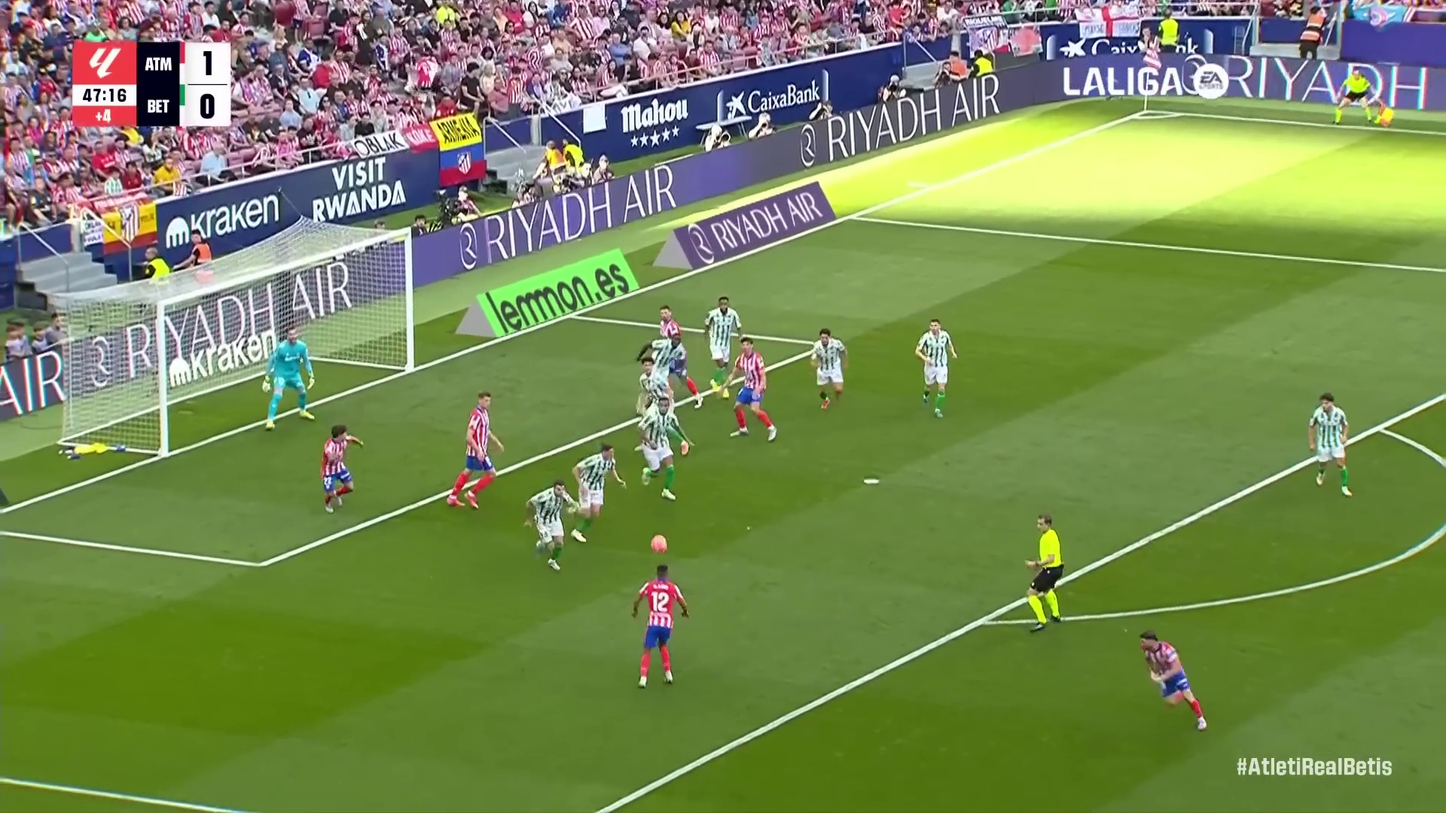ball: (649, 533, 670, 553)
player: (1136, 628, 1212, 733), (631, 564, 691, 689), (446, 391, 506, 510), (723, 336, 781, 444), (566, 442, 628, 543), (637, 398, 695, 500), (261, 325, 316, 431), (634, 356, 690, 455), (523, 479, 580, 572), (1307, 391, 1354, 499), (658, 304, 704, 410), (698, 294, 743, 400), (914, 317, 958, 419), (319, 423, 364, 515), (810, 327, 849, 410), (637, 332, 687, 392)
referee: (1017, 513, 1072, 633), (1331, 70, 1396, 127)
